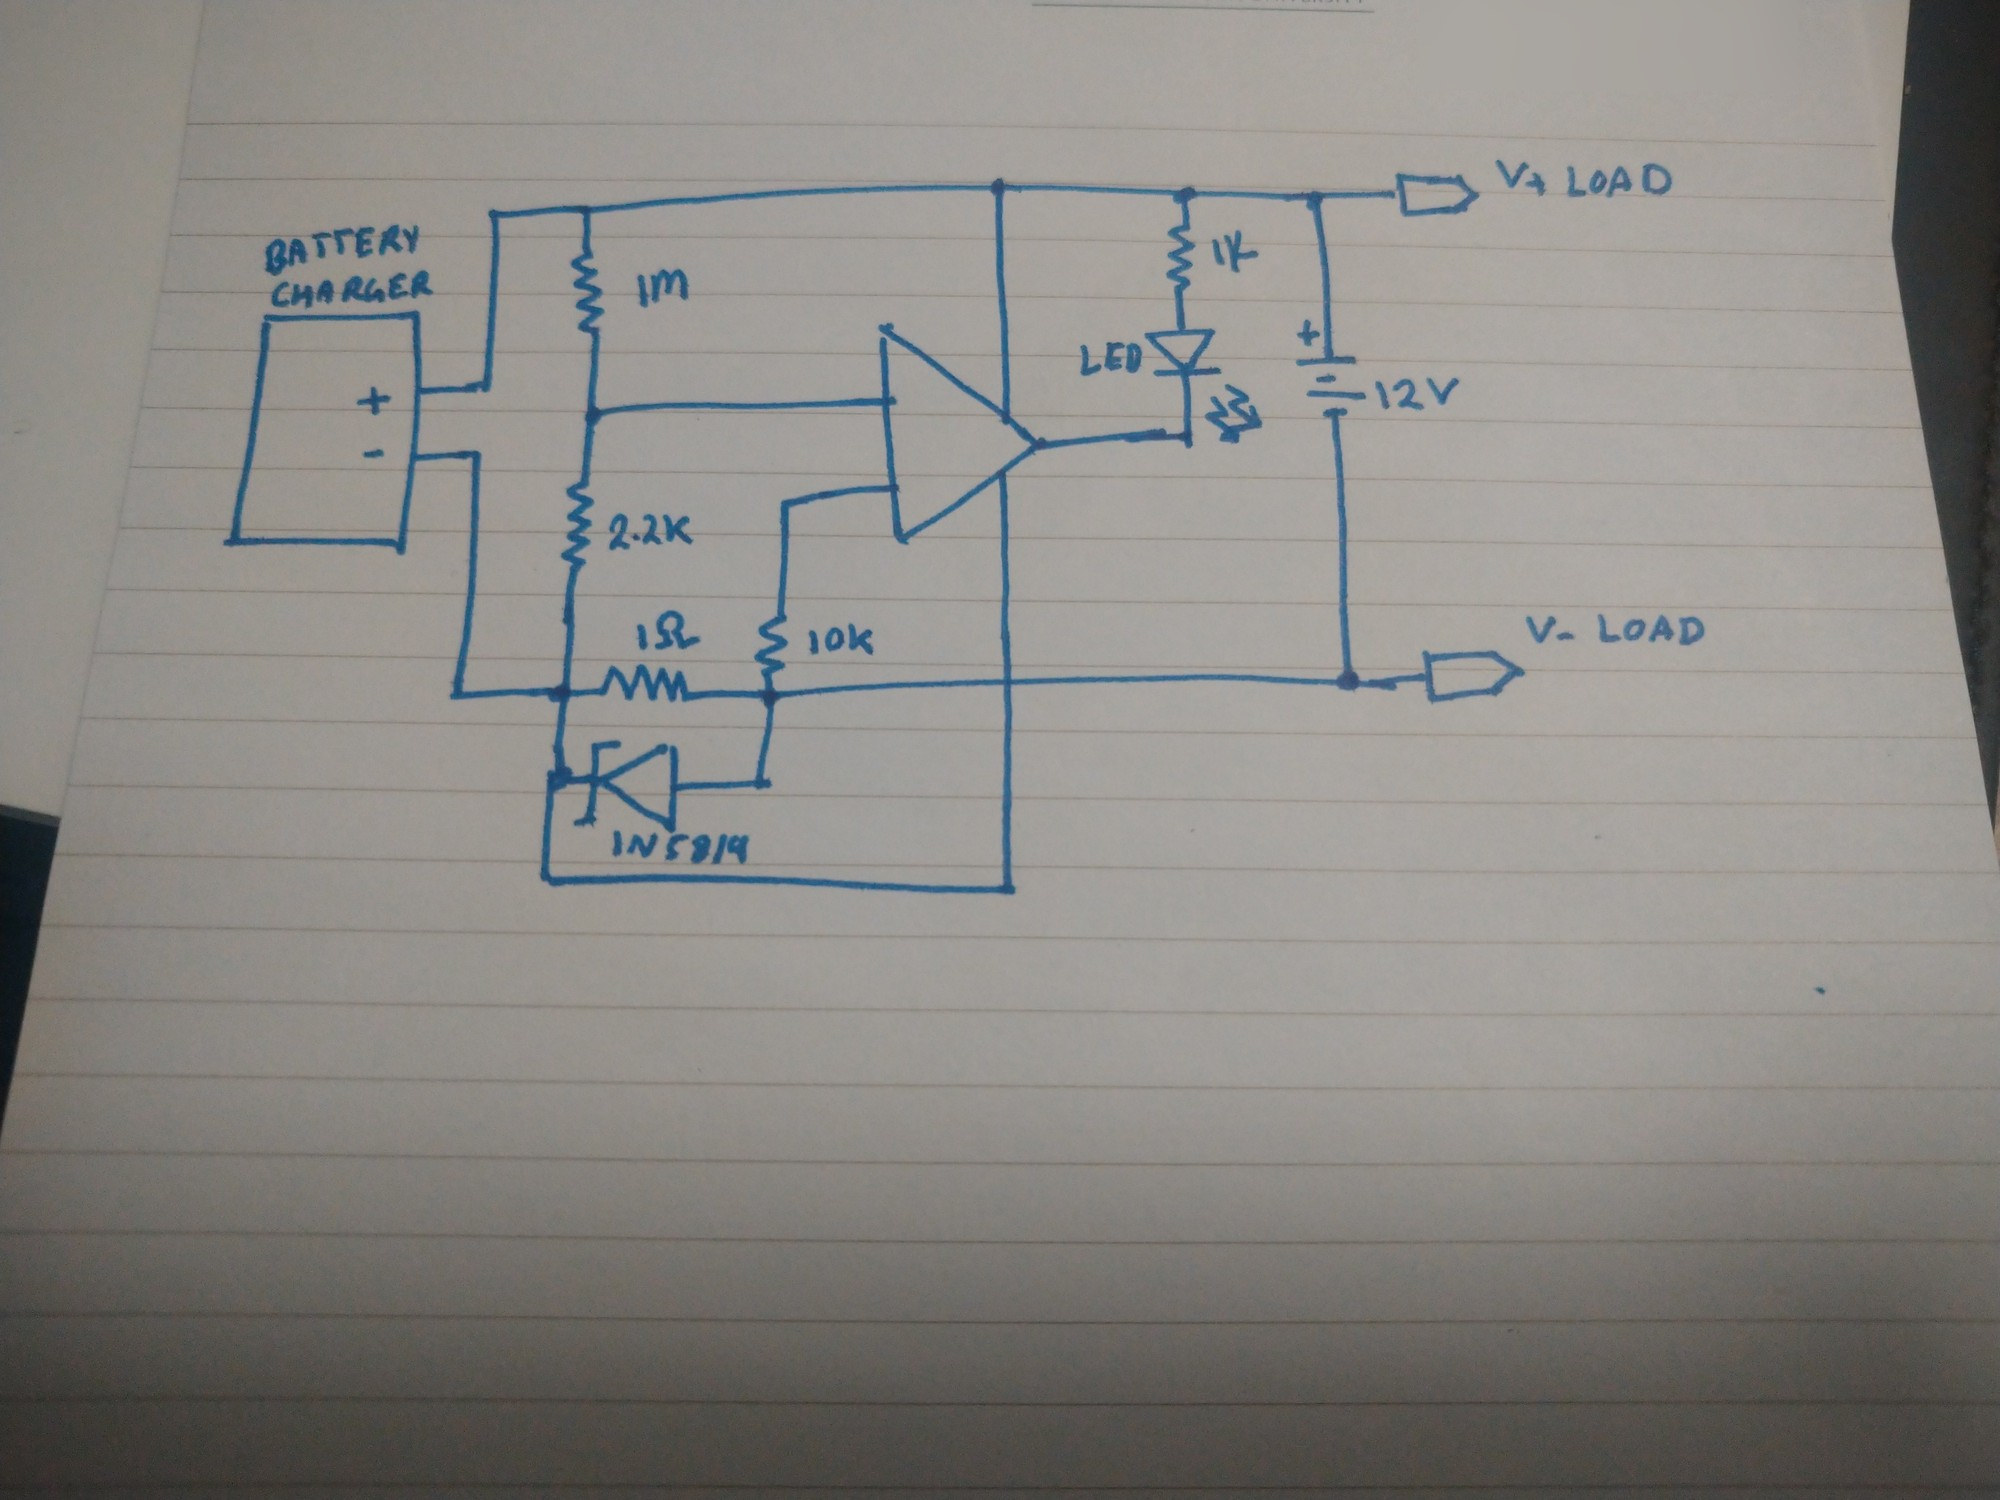crossover: (992, 670, 1022, 695)
diode: (573, 739, 680, 834)
diode.light_emitting: (1142, 326, 1269, 449)
junction: (1298, 180, 1334, 216), (1331, 663, 1365, 696), (542, 763, 576, 796), (546, 678, 578, 709), (984, 172, 1017, 202), (1167, 180, 1202, 208), (578, 403, 611, 432), (1164, 424, 1198, 447), (746, 769, 775, 797), (756, 684, 784, 711), (531, 867, 561, 892), (472, 373, 499, 399), (994, 876, 1020, 901), (575, 199, 602, 222), (446, 684, 471, 707), (463, 444, 488, 465), (775, 495, 797, 517), (483, 203, 506, 222)
operational_amplifier: (872, 318, 1050, 547)
resistor: (595, 660, 691, 707), (567, 246, 611, 337), (559, 479, 597, 569), (753, 608, 791, 682), (1164, 222, 1197, 295)
terminal: (1417, 646, 1528, 706), (1391, 167, 1485, 222)
text: (258, 217, 431, 276), (1491, 158, 1676, 205), (1521, 610, 1707, 651), (269, 268, 438, 306), (609, 829, 753, 868), (605, 511, 699, 555), (1372, 373, 1465, 414), (631, 265, 698, 312), (633, 608, 702, 652), (805, 619, 879, 659), (1072, 339, 1143, 378), (1209, 228, 1265, 276)
voltage.dc: (224, 310, 431, 556), (1290, 348, 1372, 424)
